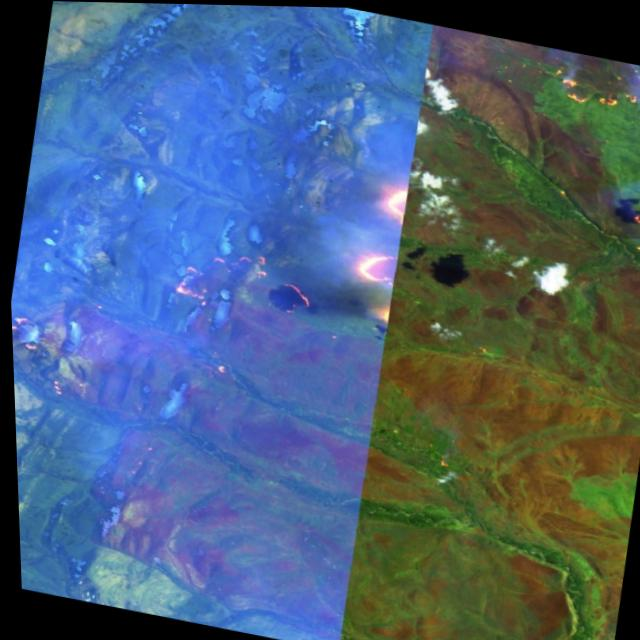fire: (6, 207, 328, 446), (330, 168, 429, 339), (535, 44, 640, 147), (607, 199, 640, 264)
